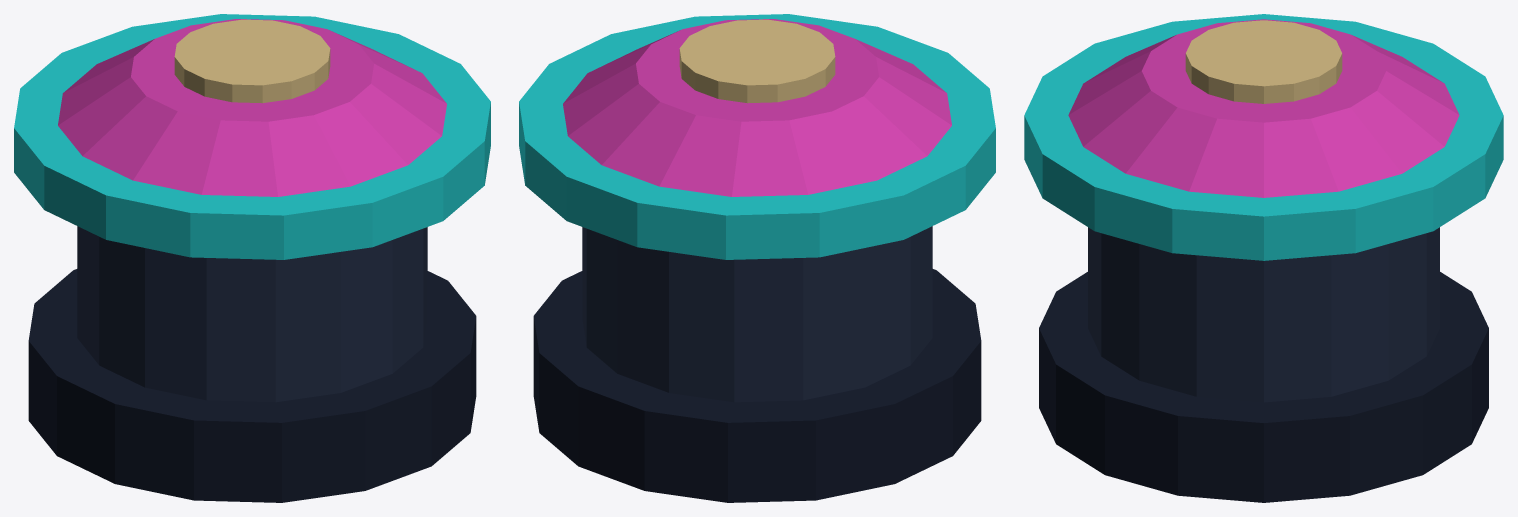
Rendered from Neon_PinballBumper_Standard.glb.
3 views of the same model, side by side, from view 1: azimuth 30°, elevation 25°; view 2: azimuth 150°, elevation 25°; view 3: azimuth 270°, elevation 25° (orthographic).
Visible parts, largest first — view 1: Neon_PinballBumper_Standard; view 2: Neon_PinballBumper_Standard; view 3: Neon_PinballBumper_Standard.
Boxes of the visible parts, x1,y1,x2,y2 form: Neon_PinballBumper_Standard: [14, 14, 490, 502]; Neon_PinballBumper_Standard: [519, 14, 995, 502]; Neon_PinballBumper_Standard: [1024, 14, 1503, 502].
Bounding box in the file's own units: 0.98 × 0.8 × 0.98.
